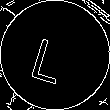L_N: (33, 27, 77, 83)
